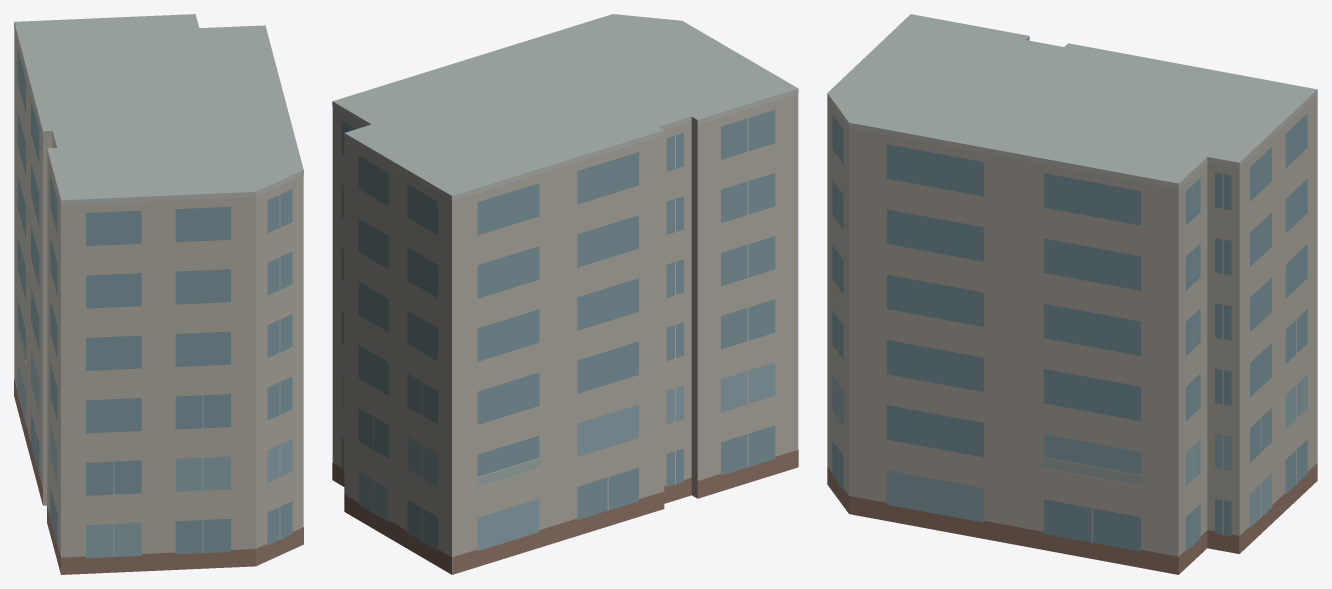
The model's file is survey-upis-32488493.glb.
3 views of the same model, side by side, from view 1: azimuth 30°, elevation 25°; view 2: azimuth 150°, elevation 25°; view 3: azimuth 270°, elevation 25° (orthographic). The views are drawn at different scales.
Parts seen in each view (by area): view 1: survey-upis-32488493.tmp; view 2: survey-upis-32488493.tmp; view 3: survey-upis-32488493.tmp.
Boxes of the visible parts, box(x1,y1,x2,y2) form: survey-upis-32488493.tmp: box(14, 14, 303, 574); survey-upis-32488493.tmp: box(332, 14, 798, 574); survey-upis-32488493.tmp: box(827, 14, 1317, 574).
Bounding box in the file's own units: 16.92 × 18.2 × 20.67.
